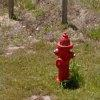Hydrant: (47, 29, 78, 89)
